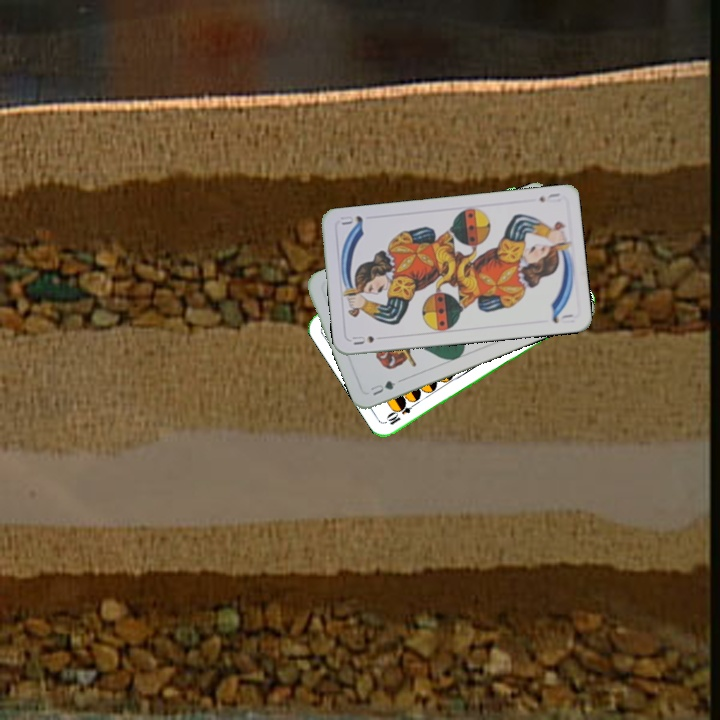E10: (383, 397, 420, 428)
GU: (366, 376, 398, 398)
SU: (348, 332, 388, 347), (535, 189, 563, 206)
